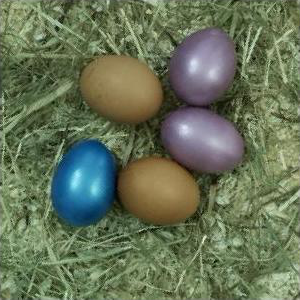egg: (80, 55, 164, 125), (168, 26, 238, 107), (116, 157, 200, 224), (51, 140, 115, 227), (161, 108, 245, 174)
